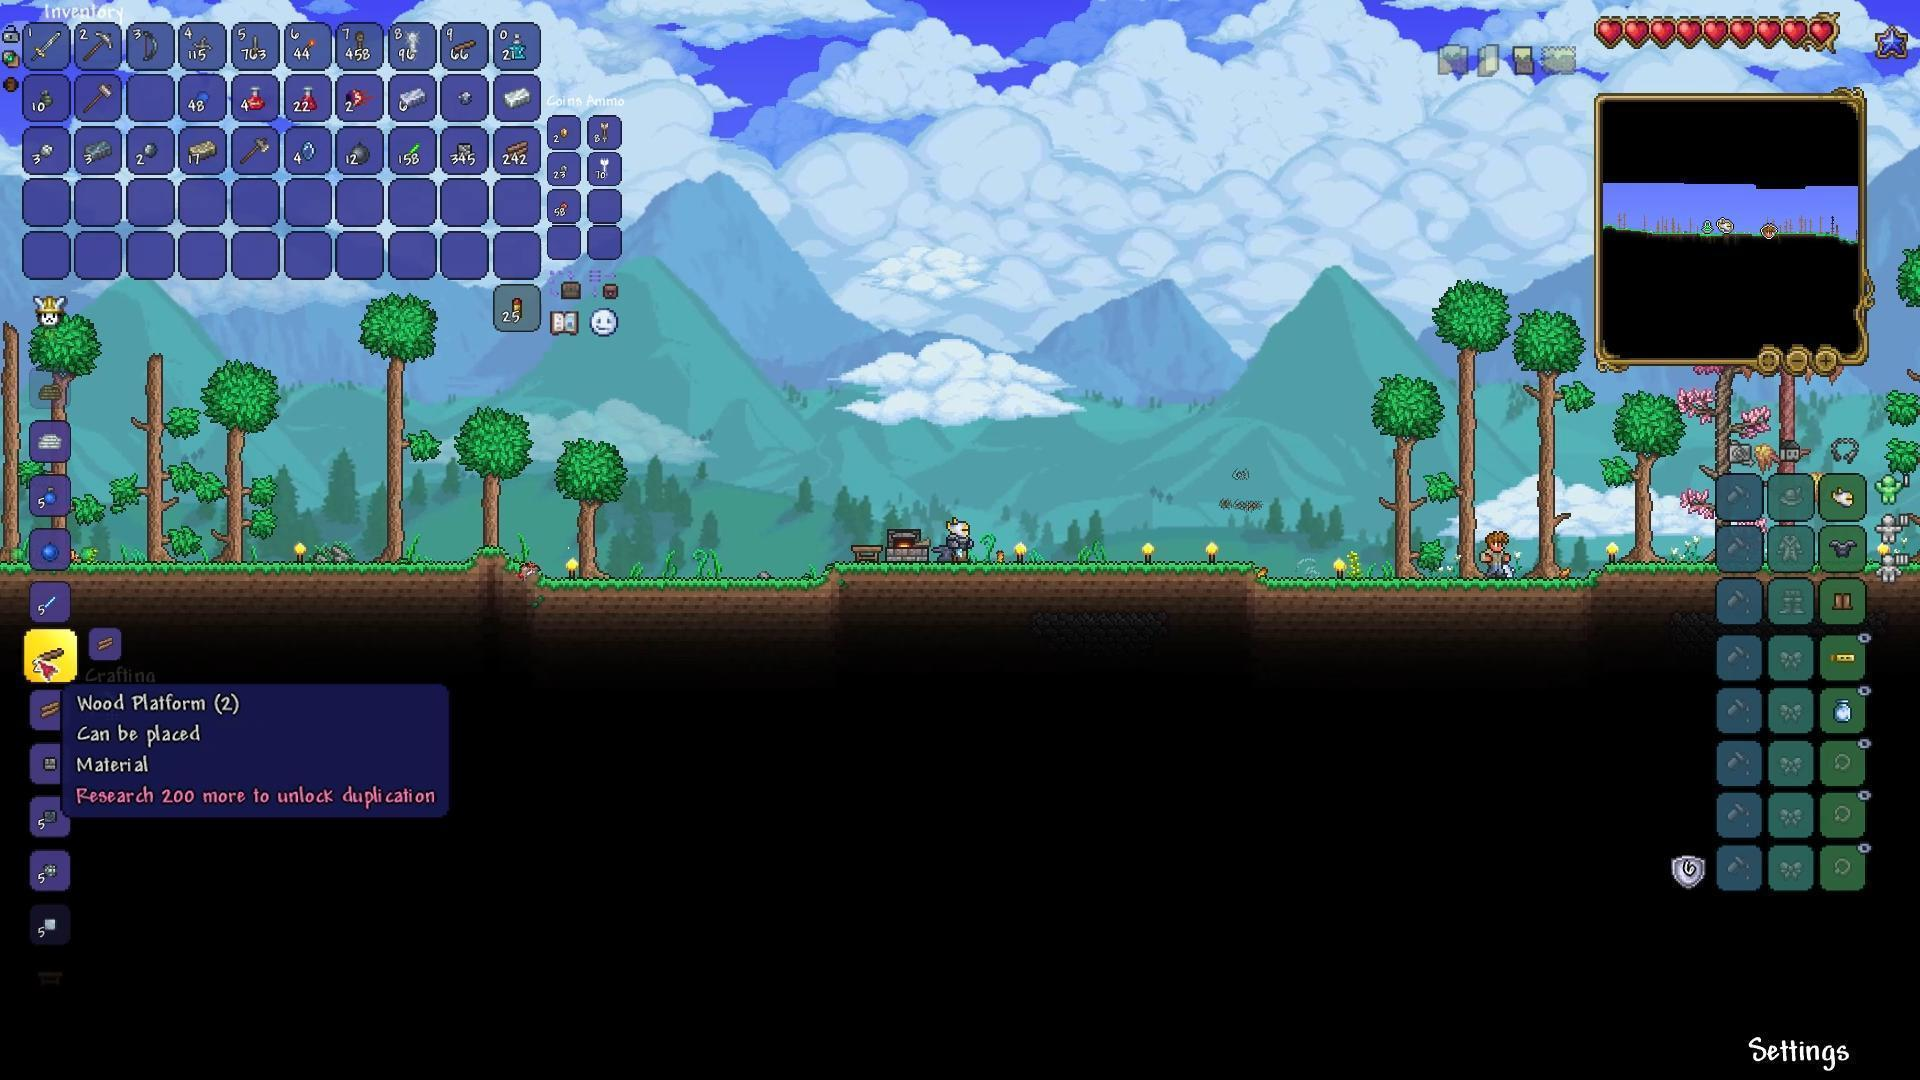anvil: (928, 538, 963, 563)
arrow: (597, 156, 613, 179), (597, 121, 611, 142)
axe: (237, 136, 273, 165)
bomb: (349, 141, 371, 167)
bow: (138, 28, 160, 66)
breastplate: (1829, 538, 1857, 558)
eye: (345, 86, 373, 108)
furnace: (882, 521, 932, 563)
gel: (195, 88, 215, 105)
glowstick: (405, 138, 425, 161)
grenade: (40, 88, 54, 108)
heart: (1702, 17, 1727, 47), (1730, 17, 1754, 47)
helmet: (1830, 487, 1855, 510)
knife: (249, 33, 262, 58)
legs: (1830, 588, 1855, 612)
lens: (298, 138, 320, 161)
pickaxe: (80, 29, 116, 61)
recallP: (506, 32, 527, 62)
rope: (405, 32, 421, 59), (353, 25, 367, 55)
shuriken: (190, 34, 214, 55)
sword: (29, 30, 62, 66)
wood: (505, 136, 529, 160), (96, 634, 115, 651)
workbench: (852, 538, 886, 566)
